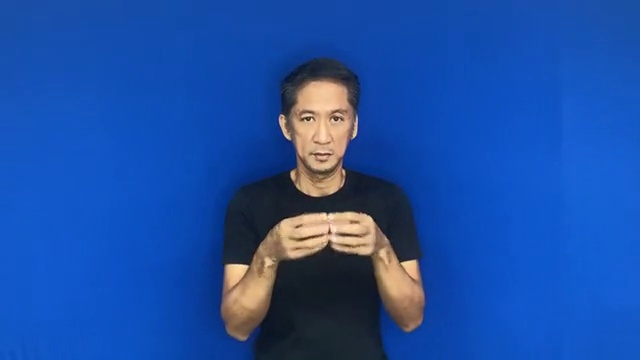egg: (251, 205, 389, 272)
